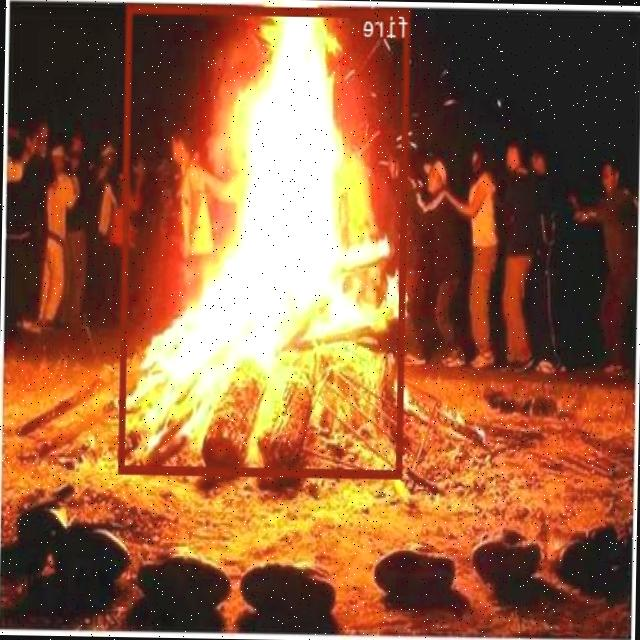fire: (120, 2, 411, 477)
